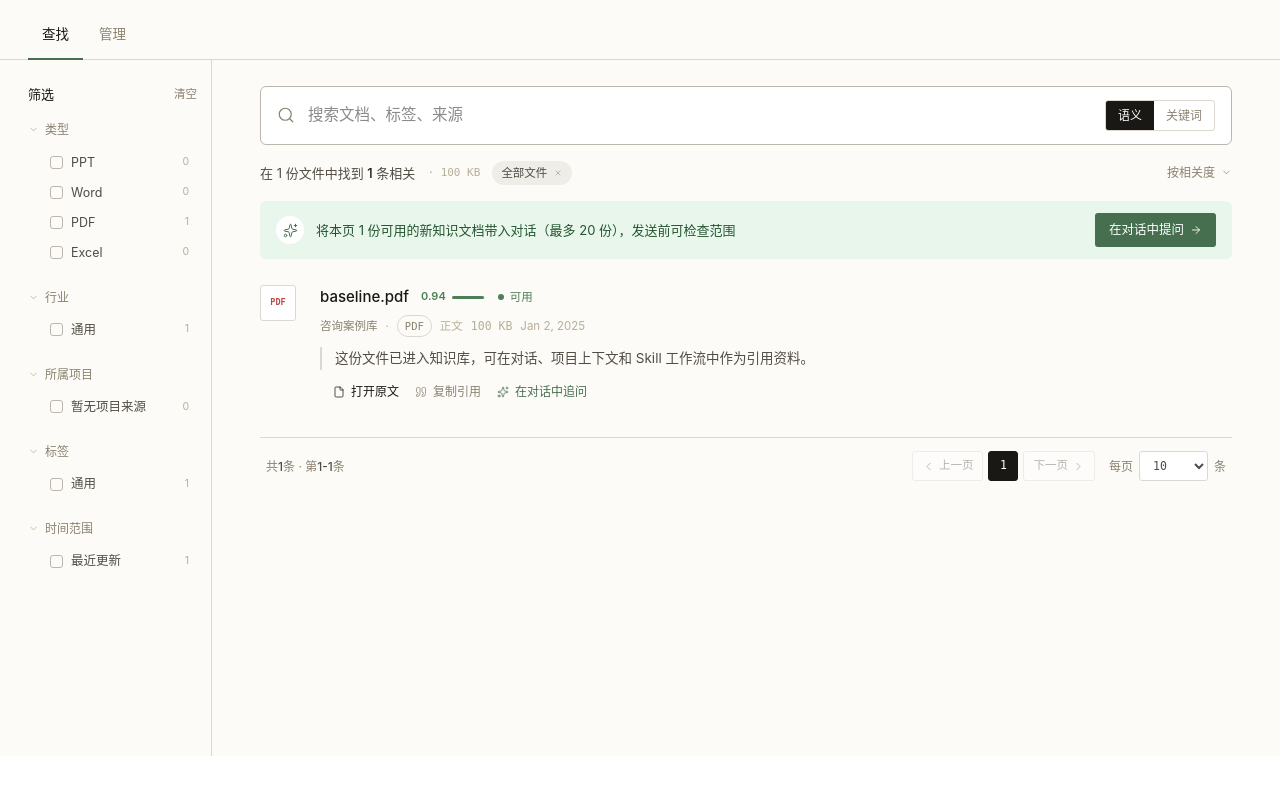
Knowledge › does not let a slower old search overwrite the newest results
Type "旧查询" into the field named "搜索知识库".
click(700, 115); type("旧查询")  # box [308,103,1092,128]
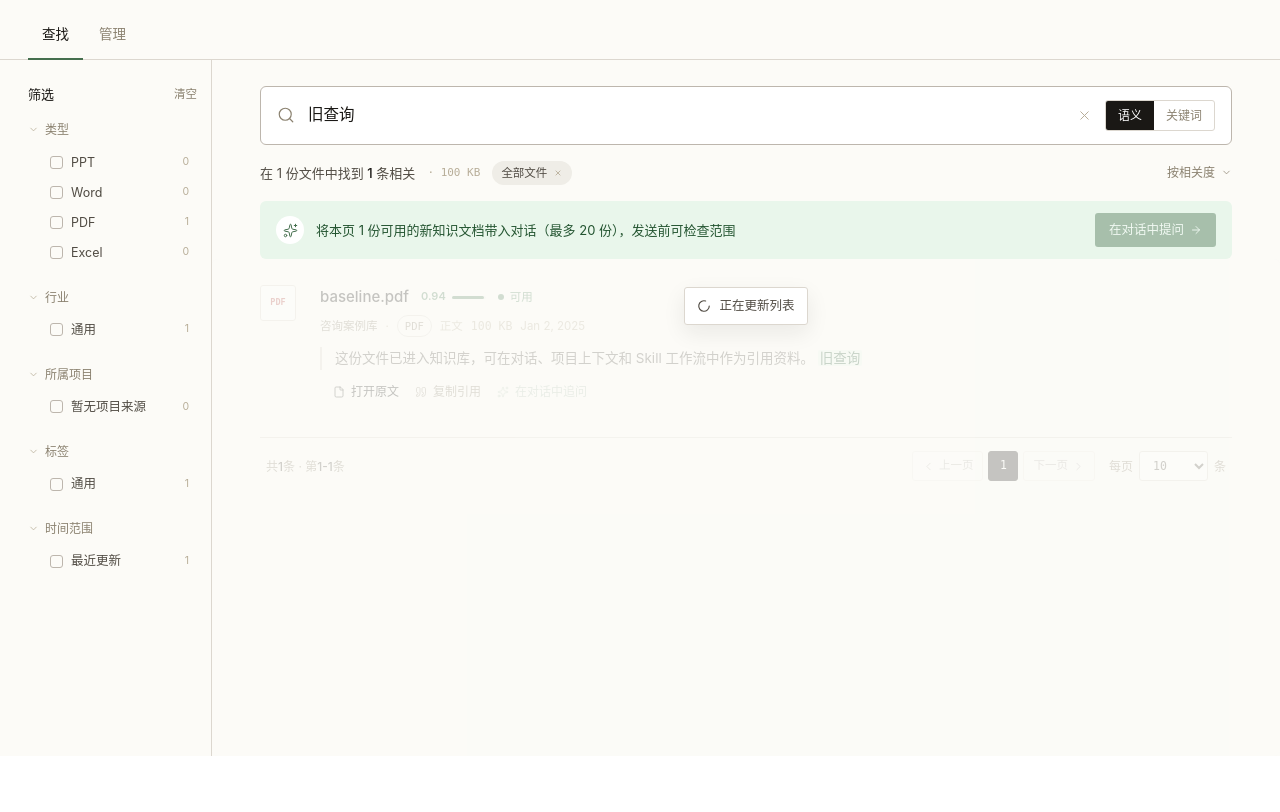
Replace the text in the field named "搜索知识库" with "新查询" at point(686, 115), box [308,103,1064,128]
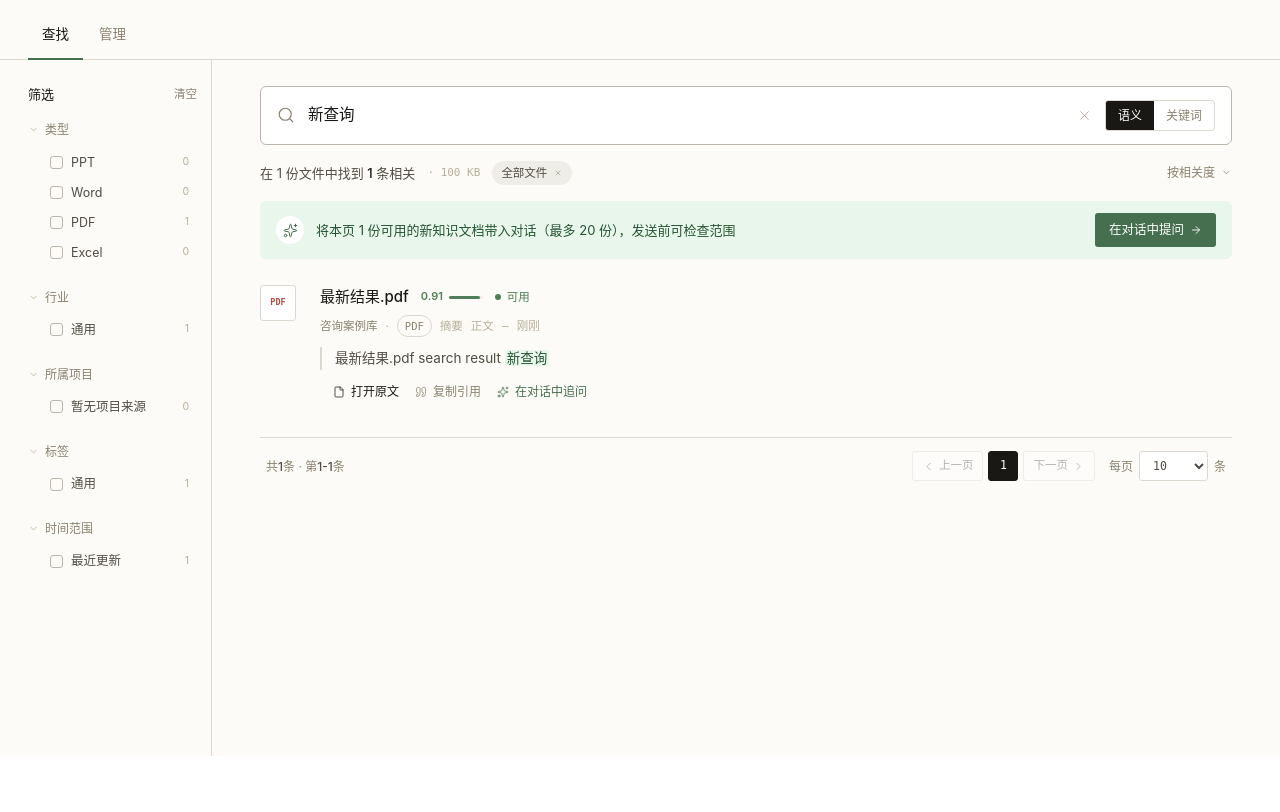
Expected: the text "最新结果.pdf" is shown, [320,285,409,309]
